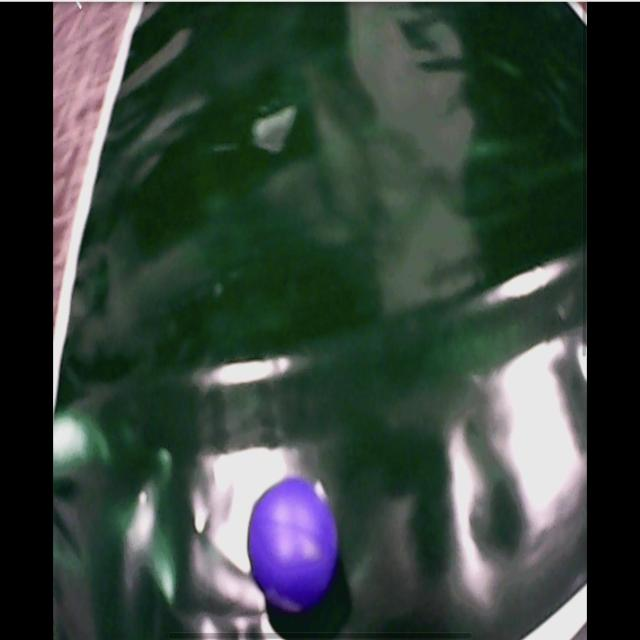ball: (248, 480, 339, 612)
